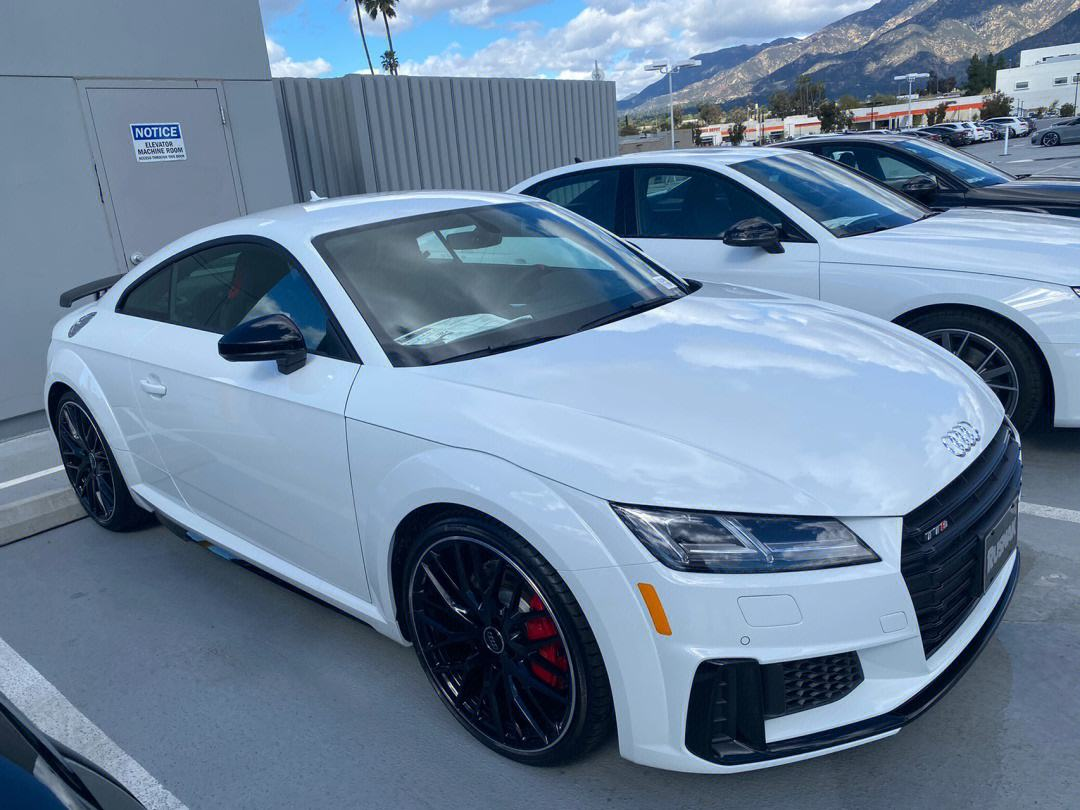other: (37, 192, 1038, 773), (520, 148, 1080, 441)
